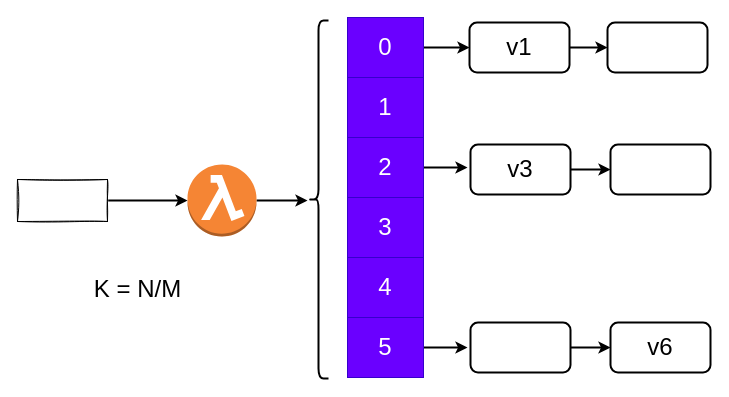
Image size: 729x397. Some labels were removed from this diagram. Here are the shapes that lost their labels. From the top down, the centre of each, then its label:
At (x=657, y=47): "v2".
At (x=660, y=169): "v5".
At (x=62, y=200): "KEY".
At (x=520, y=347): "v4".
